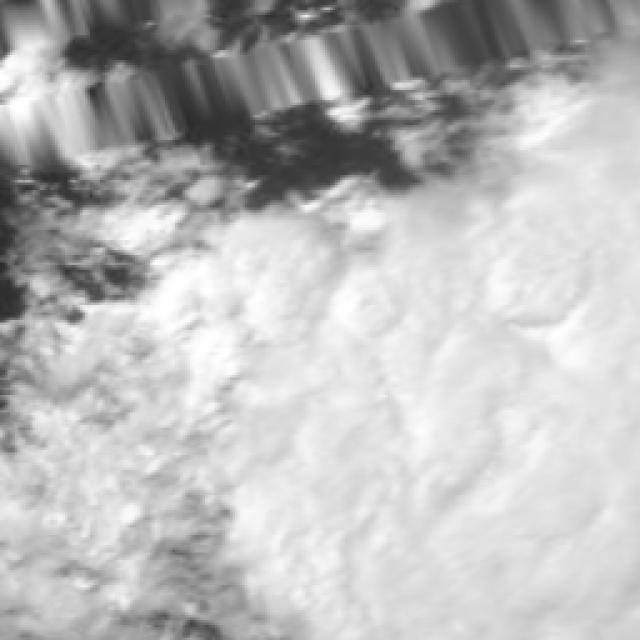CB: (352, 262, 640, 640)
